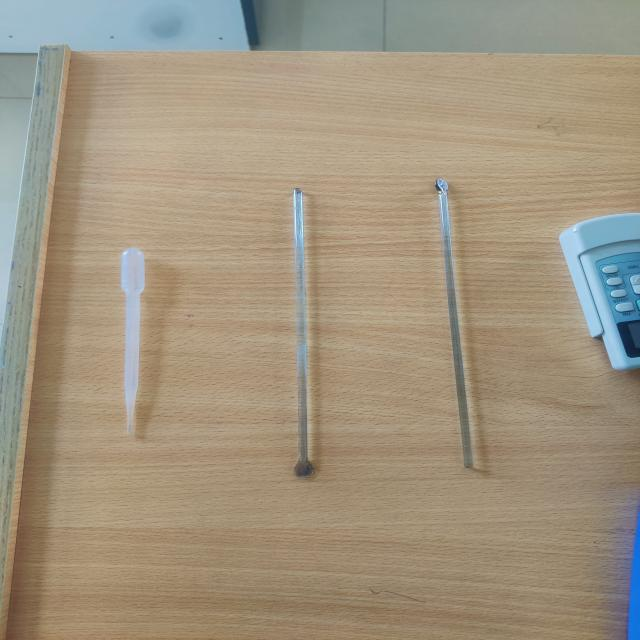Glass_Rod: (410, 131, 511, 490), (265, 172, 352, 496)
Pipette: (92, 221, 192, 457)
